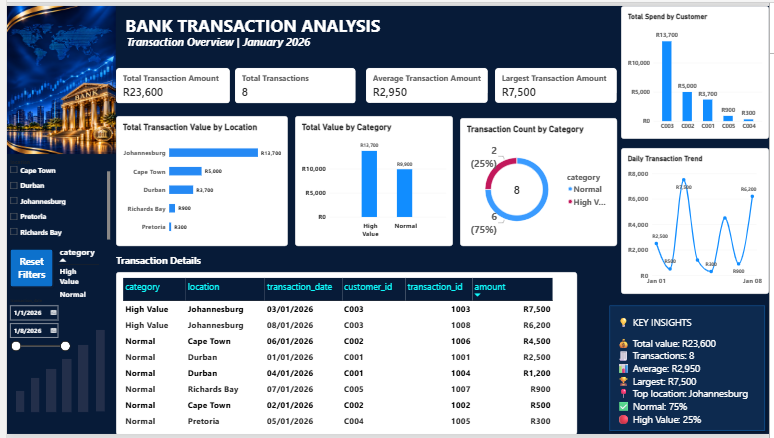

This screenshot's page, from the dashboard's own definition file:
{"tool":"powerbi","page":{"name":"Page 1","canvas":[1920,1080],"ordinal":0},"visuals":[{"type":"shape","box":[1510.2,746.9,409.8,333.8],"z":0},{"type":"cardVisual","fields":{"Data":["public transactions.Total Amount Text"]},"box":[267.7,221.4,287.5,89.2],"z":1000},{"type":"cardVisual","fields":{"Data":["public transactions.Total Transactions"]},"box":[575,221.4,304,89.2],"z":2000},{"type":"cardVisual","fields":{"Data":["public transactions.Average Amount Text"]},"box":[905.5,221.4,307.3,89.2],"z":3000},{"type":"cardVisual","fields":{"Data":["public transactions.Largest Transaction Text"]},"box":[1232.6,221.4,279.7,88.2],"z":4000},{"type":"barChart","title":"Total Transaction Value by Location","fields":{"Category":["public transactions.location"],"Y":["Sum(public transactions.amount)"]},"box":[274.3,356.9,423,300.7],"z":5000},{"type":"donutChart","title":" Transaction Count by Category","fields":{"Category":["public transactions.category"],"Y":["CountNonNull(public transactions.transaction_id)"]},"box":[1156.6,356.9,380,300.7],"z":6000},{"type":"textbox","box":[274.3,687.4,1166.5,393.3],"z":7000},{"type":"tableEx","fields":{"Values":["public transactions.category","public transactions.location","public transactions.transaction_date","public transactions.customer_id","public transactions.transaction_id","public transactions.amount"]},"box":[274.3,727,1136.8,353.6],"z":8000},{"type":"textbox","box":[2840,1565,970,580],"z":9000},{"type":"textbox","box":[1536.7,779.9,383.3,277.6],"z":10000},{"type":"textbox","box":[274.6,0,937.3,138.6],"z":11000},{"type":"textbox","box":[274.3,69.4,515.5,69.4],"z":12000},{"type":"image","box":[0,0,274.3,373.4],"z":13000},{"type":"slicer","fields":{"Values":["public transactions.location"]},"box":[0,384.1,163.5,204.8],"z":14000},{"type":"tableEx","fields":{"Values":["public transactions.category"]},"box":[128.6,587.3,146,139.7],"z":15000},{"type":"shape","box":[23.1,963.5,23.1,59.6],"z":16000},{"type":"shape","box":[60.7,921.3,26.2,103.3],"z":17000},{"type":"shape","box":[98.1,876.9,25,146.2],"z":18000},{"type":"shape","box":[138.8,836.1,25,188.5],"z":19000},{"type":"shape","box":[178.8,801.9,26.9,221.2],"z":20000},{"type":"shape","box":[223.1,746.2,25,276.9],"z":21000},{"type":"slicer","fields":{"Values":["public transactions.transaction_date"]},"box":[163.5,384.1,106.3,193.7],"z":22000},{"type":"lineChart","title":"Daily Transaction Trend ","fields":{"Category":["public transactions.transaction_date"],"Y":["Sum(public transactions.amount)"]},"box":[1573,356.9,347,300.7],"z":22001},{"type":"clusteredColumnChart","title":"Total Value by Category","fields":{"Category":["public transactions.category"],"Y":["Sum(public transactions.amount)"]},"box":[727,356.9,409.8,300.7],"z":22002},{"type":"clusteredColumnChart","title":"Total Spend by Customer","fields":{"Category":["public transactions.customer_id"],"Y":["Sum(public transactions.amount)"]},"box":[1546.6,0,372.9,312.4],"z":22003},{"type":"actionButton","box":[0,671.4,123.8,55.6],"z":22004}]}

Visuals, with their boxes in screenshot pixels (x1, y1, x2, y2), scaled from the page's 1920x1080 canvas onto the 774x438 screenshot:
shape: [609, 303, 773, 437]
cardVisual - public transactions.Total Amount Text: [108, 90, 224, 126]
cardVisual - public transactions.Total Transactions: [232, 90, 354, 126]
cardVisual - public transactions.Average Amount Text: [365, 90, 489, 126]
cardVisual - public transactions.Largest Transaction Text: [497, 90, 610, 126]
"Total Transaction Value by Location" barChart: [111, 145, 281, 267]
" Transaction Count by Category" donutChart: [466, 145, 619, 267]
textbox: [111, 279, 581, 437]
tableEx - public transactions.category x public transactions.location: [111, 295, 569, 437]
textbox: [619, 316, 773, 429]
textbox: [111, 0, 489, 56]
textbox: [111, 28, 318, 56]
image: [0, 0, 111, 151]
slicer - public transactions.location: [0, 156, 66, 239]
tableEx - public transactions.category: [52, 238, 111, 295]
shape: [9, 391, 19, 415]
shape: [24, 374, 35, 416]
shape: [40, 356, 50, 415]
shape: [56, 339, 66, 416]
shape: [72, 325, 83, 415]
shape: [90, 303, 100, 415]
slicer - public transactions.transaction_date: [66, 156, 109, 234]
"Daily Transaction Trend " lineChart: [634, 145, 773, 267]
"Total Value by Category" clusteredColumnChart: [293, 145, 458, 267]
"Total Spend by Customer" clusteredColumnChart: [623, 0, 773, 127]
actionButton: [0, 272, 50, 295]
